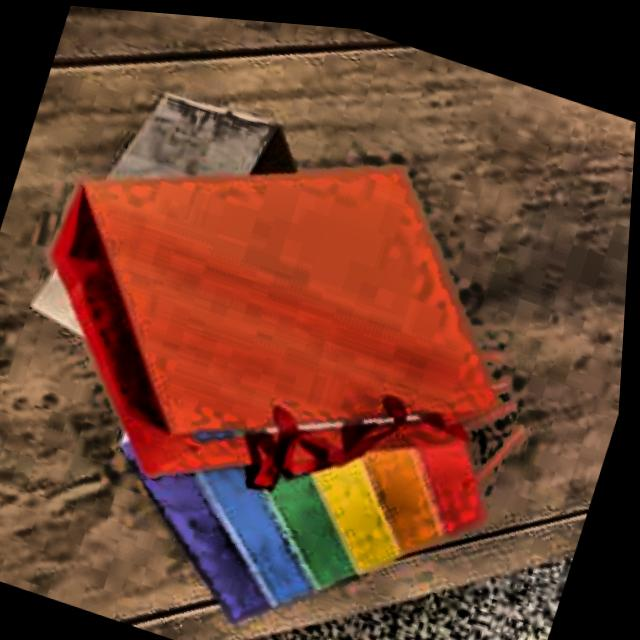Paper-bag: (0, 59, 557, 543), (62, 185, 559, 640), (19, 50, 317, 400)
